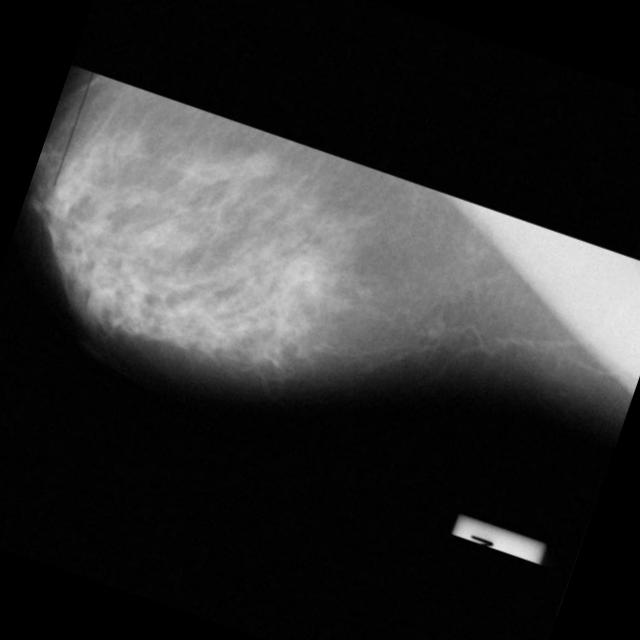ASYM: (241, 147, 278, 184)
